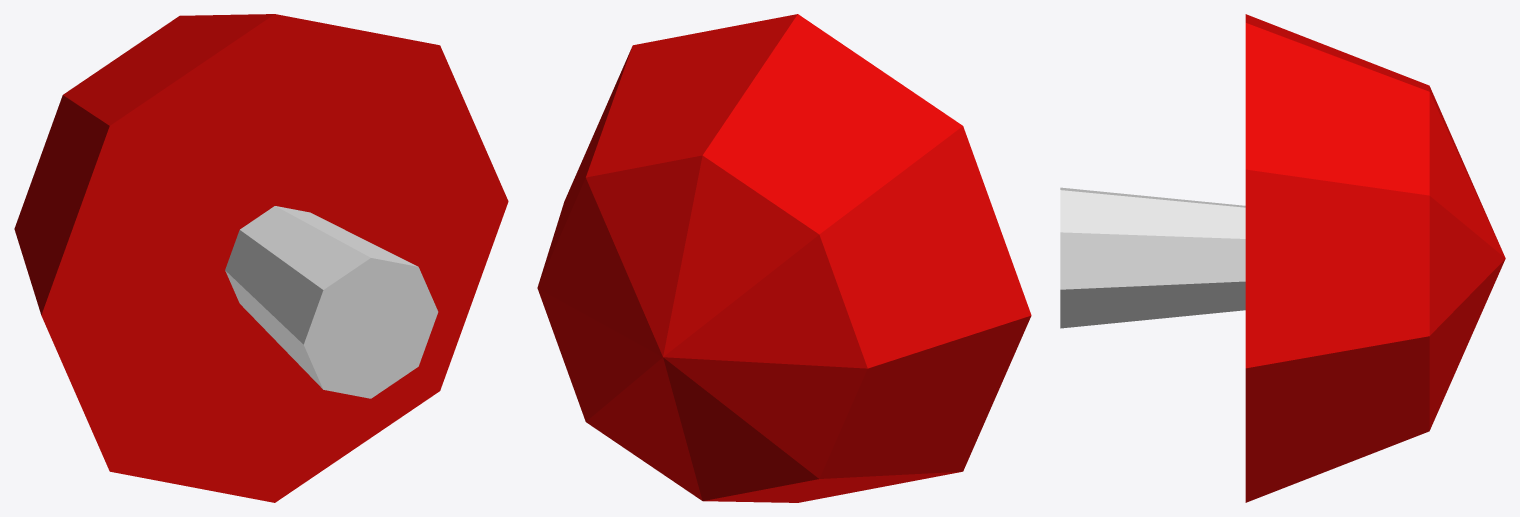
The model's file is Mushroom.fbx.
3 renders of one model, left to right at view 1: azimuth 30°, elevation 25°; view 2: azimuth 150°, elevation 25°; view 3: azimuth 270°, elevation 25°, orthographic. The views are drawn at different scales.
Parts seen in each view (by area): view 1: Cylinder; view 2: Cylinder; view 3: Cylinder.
Part boxes in pixels (box(x1,y1,x2,y2)): Cylinder: box(14, 14, 508, 502); Cylinder: box(537, 14, 1031, 502); Cylinder: box(1060, 14, 1505, 502).
Bounding box in the file's own units: 46.49 × 46.49 × 39.8.
